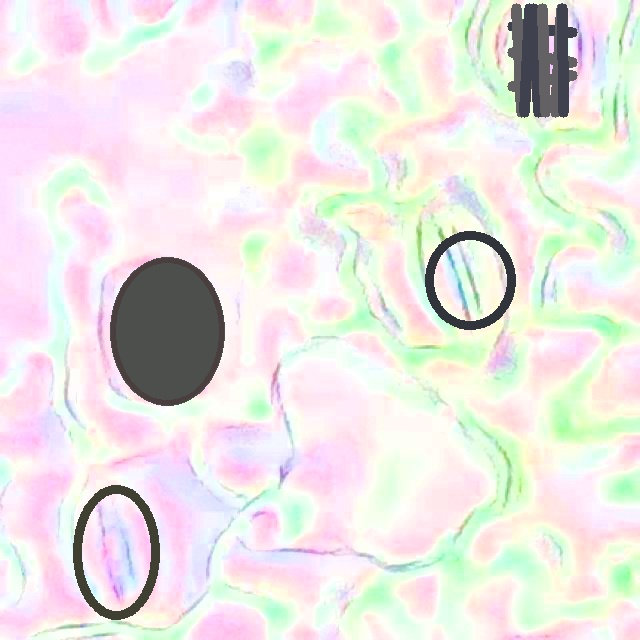close: (110, 257, 224, 404)
open: (72, 485, 160, 620), (424, 230, 515, 330), (507, 4, 576, 117)
